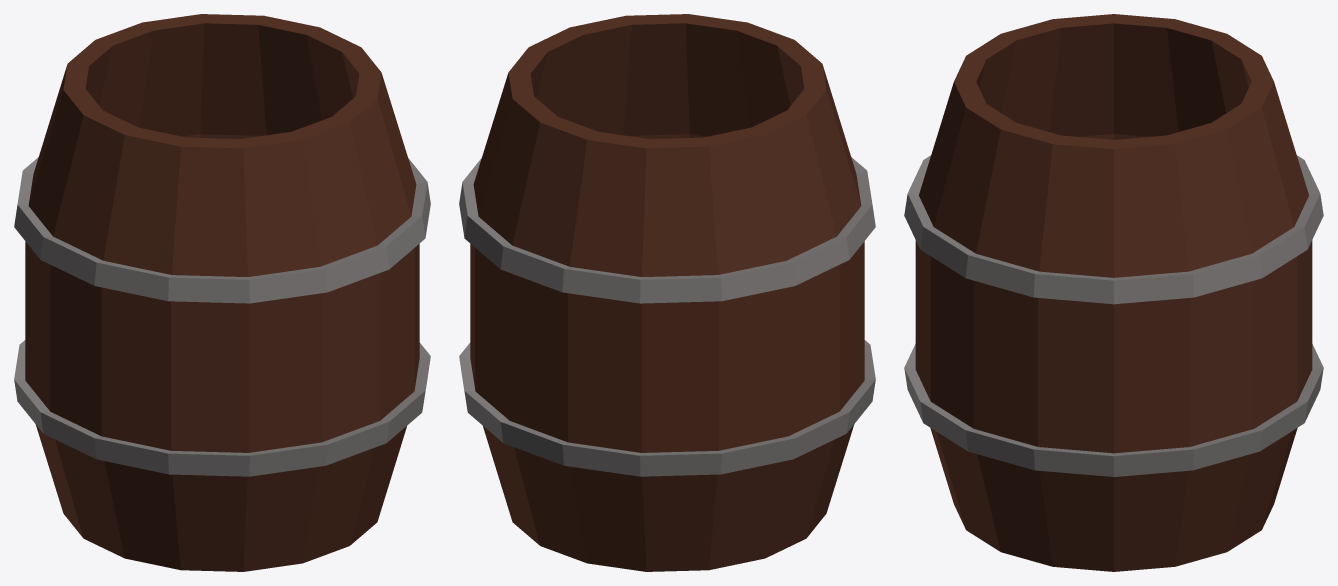
File: BAU_01.fbx
The picture shows the model from 3 angles, left to right: view 1: azimuth 30°, elevation 25°; view 2: azimuth 150°, elevation 25°; view 3: azimuth 270°, elevation 25°; orthographic projection.
Visible parts, largest first — view 1: Circle.001; view 2: Circle.001; view 3: Circle.001.
Boxes of the visible parts, left/top/right/bottom form: Circle.001: left=14, top=14, right=430, bottom=571; Circle.001: left=459, top=14, right=875, bottom=571; Circle.001: left=904, top=14, right=1323, bottom=571.
Size of the model in its own units: 82.11 by 91.29 by 82.11.
